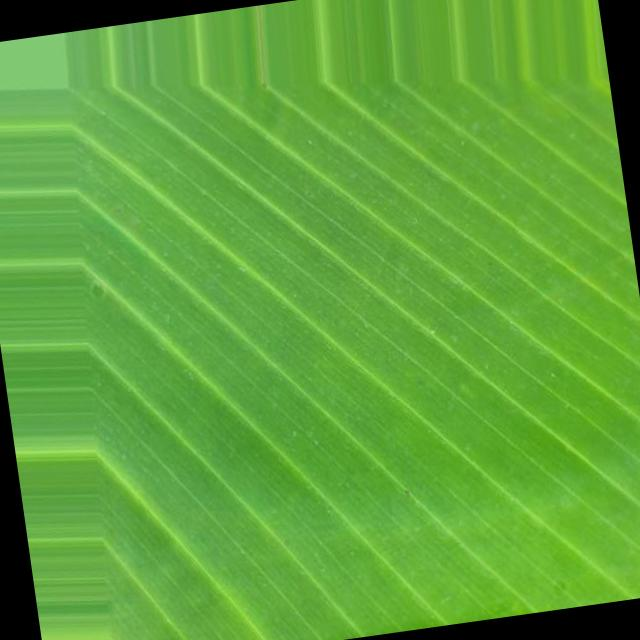Banana_Healthy: (149, 92, 588, 623)
